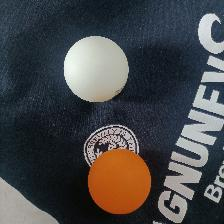WhiteBall: (62, 35, 129, 102)
YellowBall: (86, 147, 151, 214)
